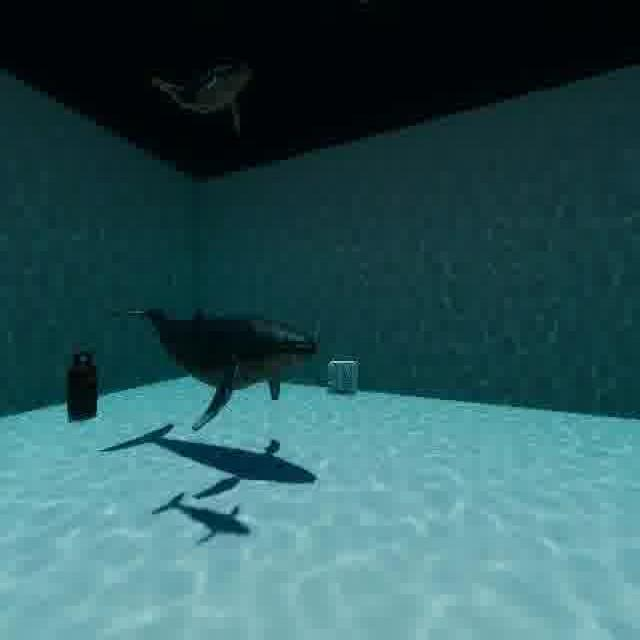Cylinder: (58, 339, 111, 434)
Docking Station: (323, 348, 364, 402)
Whale: (120, 283, 324, 438), (142, 53, 277, 140)
